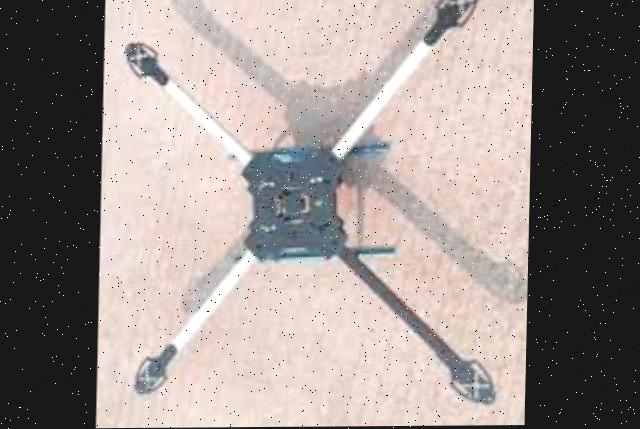drone: (129, 0, 494, 400)
